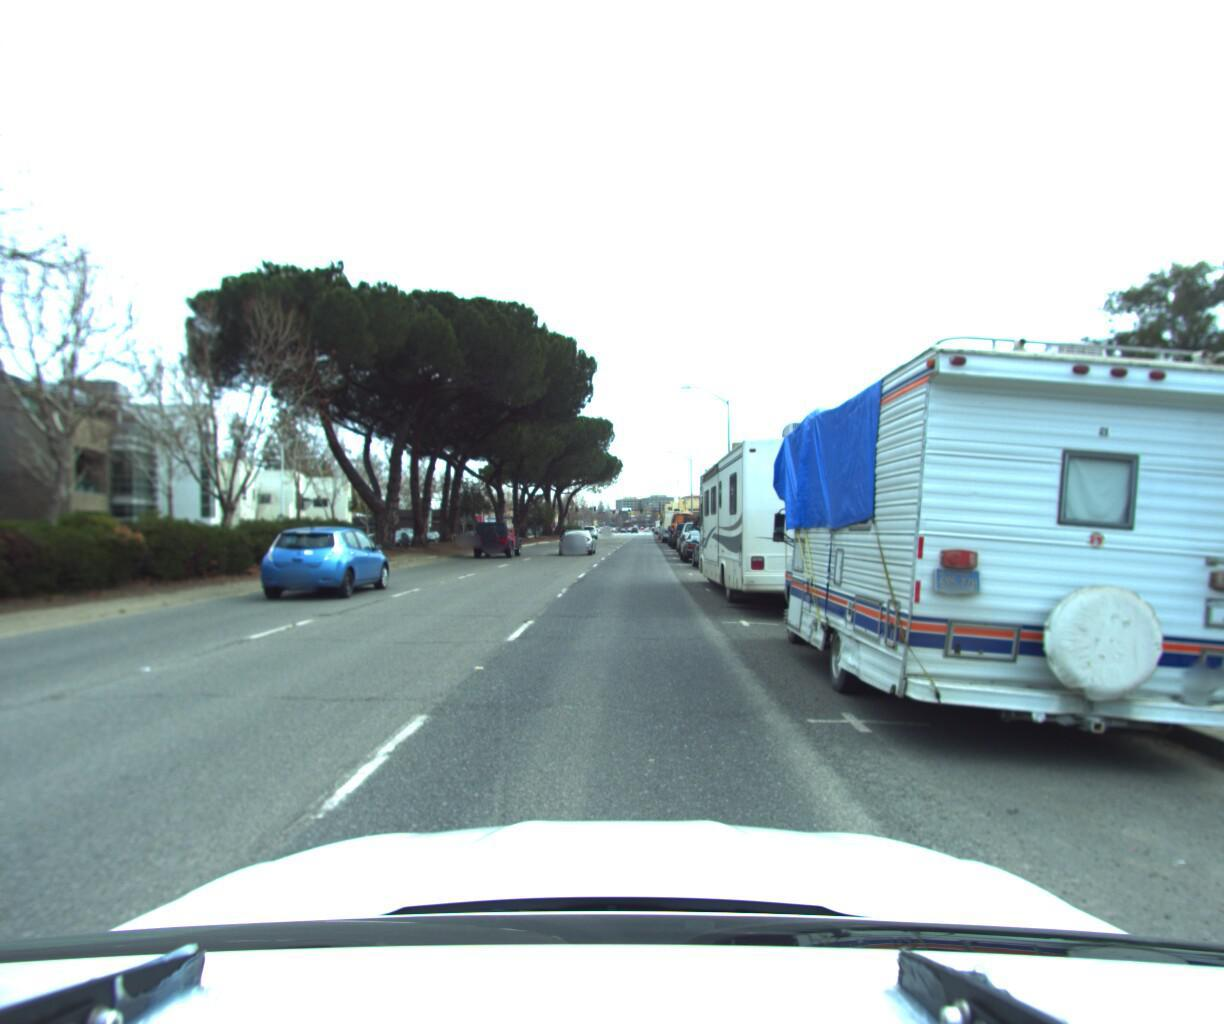car: (259, 523, 399, 604), (471, 518, 522, 558), (677, 525, 728, 563), (680, 514, 723, 557), (554, 524, 592, 555), (669, 509, 700, 546), (671, 518, 703, 548), (0, 526, 3, 612)
other_vehicle: (766, 297, 1224, 791), (694, 405, 910, 624), (661, 506, 692, 542)
